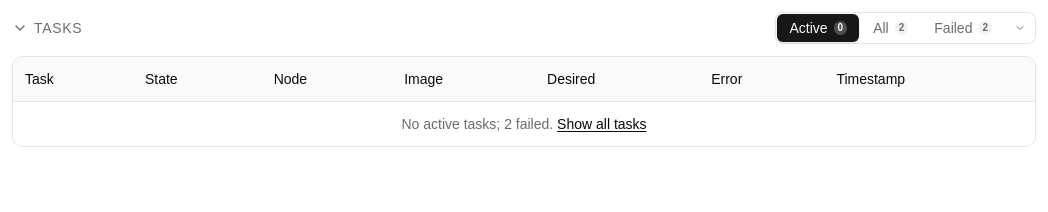
Test case: TasksTable › says why the default view is empty and offers every task
Expected: the text "No active tasks; 2 failed. Show all tasks" is shown, [13,102,1035,146]
Click the button "Show all tasks".
click(602, 124)  # box [557,114,647,134]
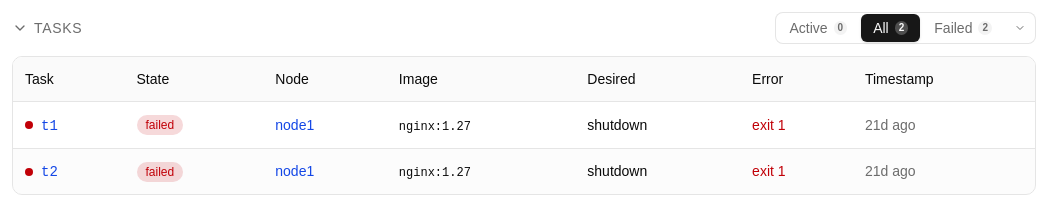
Now the text "exit 1" is shown 2 times, box [740,102,853,148]; [740,148,853,194]
